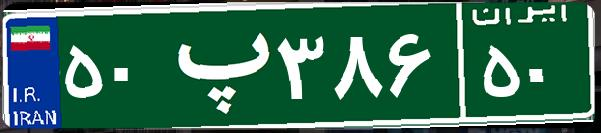0: (110, 28, 158, 105), (525, 38, 570, 115)
3: (273, 28, 330, 110)
5: (57, 26, 110, 107), (475, 38, 525, 113)
6: (385, 28, 445, 110)
8: (330, 28, 385, 110)
پ: (158, 15, 273, 115)
